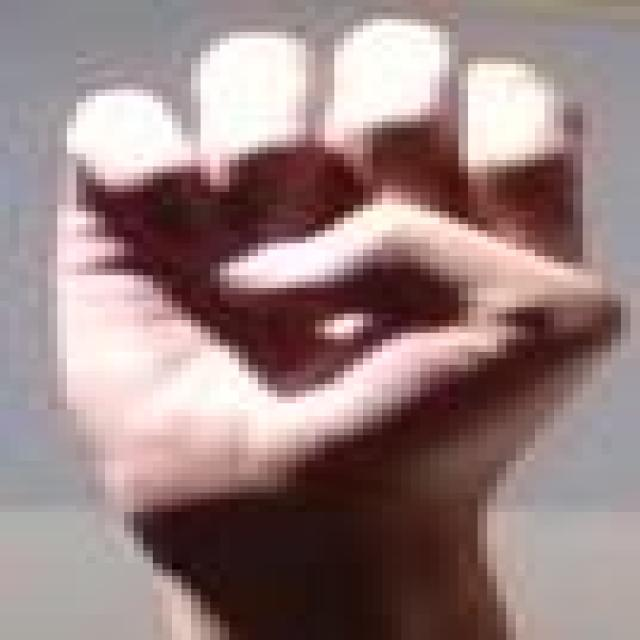E: (0, 5, 640, 593)
